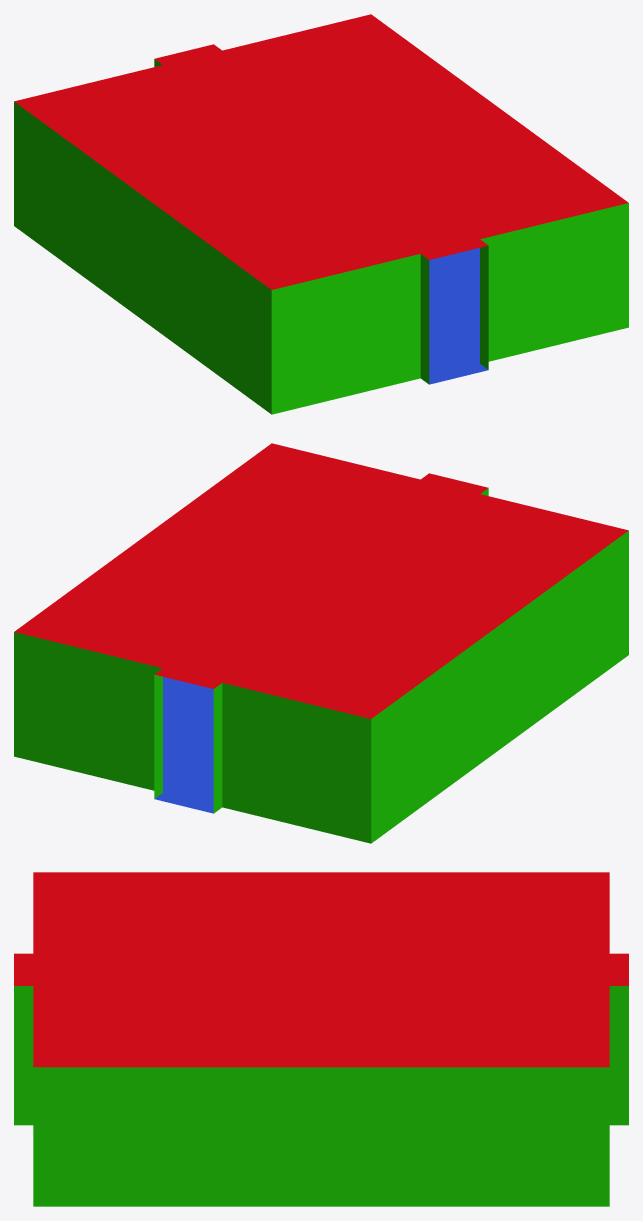
File: 3x4_Room.fbx
The picture shows the model from 3 angles, top to bottom: view 1: azimuth 30°, elevation 25°; view 2: azimuth 150°, elevation 25°; view 3: azimuth 270°, elevation 25°; orthographic projection. The views are drawn at different scales.
Visible parts, largest first — view 1: 3x4 Room; view 2: 3x4 Room; view 3: 3x4 Room.
Boxes of the visible parts, x1,y1,x2,y2 form: 3x4 Room: [14, 14, 628, 414]; 3x4 Room: [14, 443, 628, 843]; 3x4 Room: [14, 872, 628, 1206].
Size of the model in its own units: 2400 by 800 by 3200.
